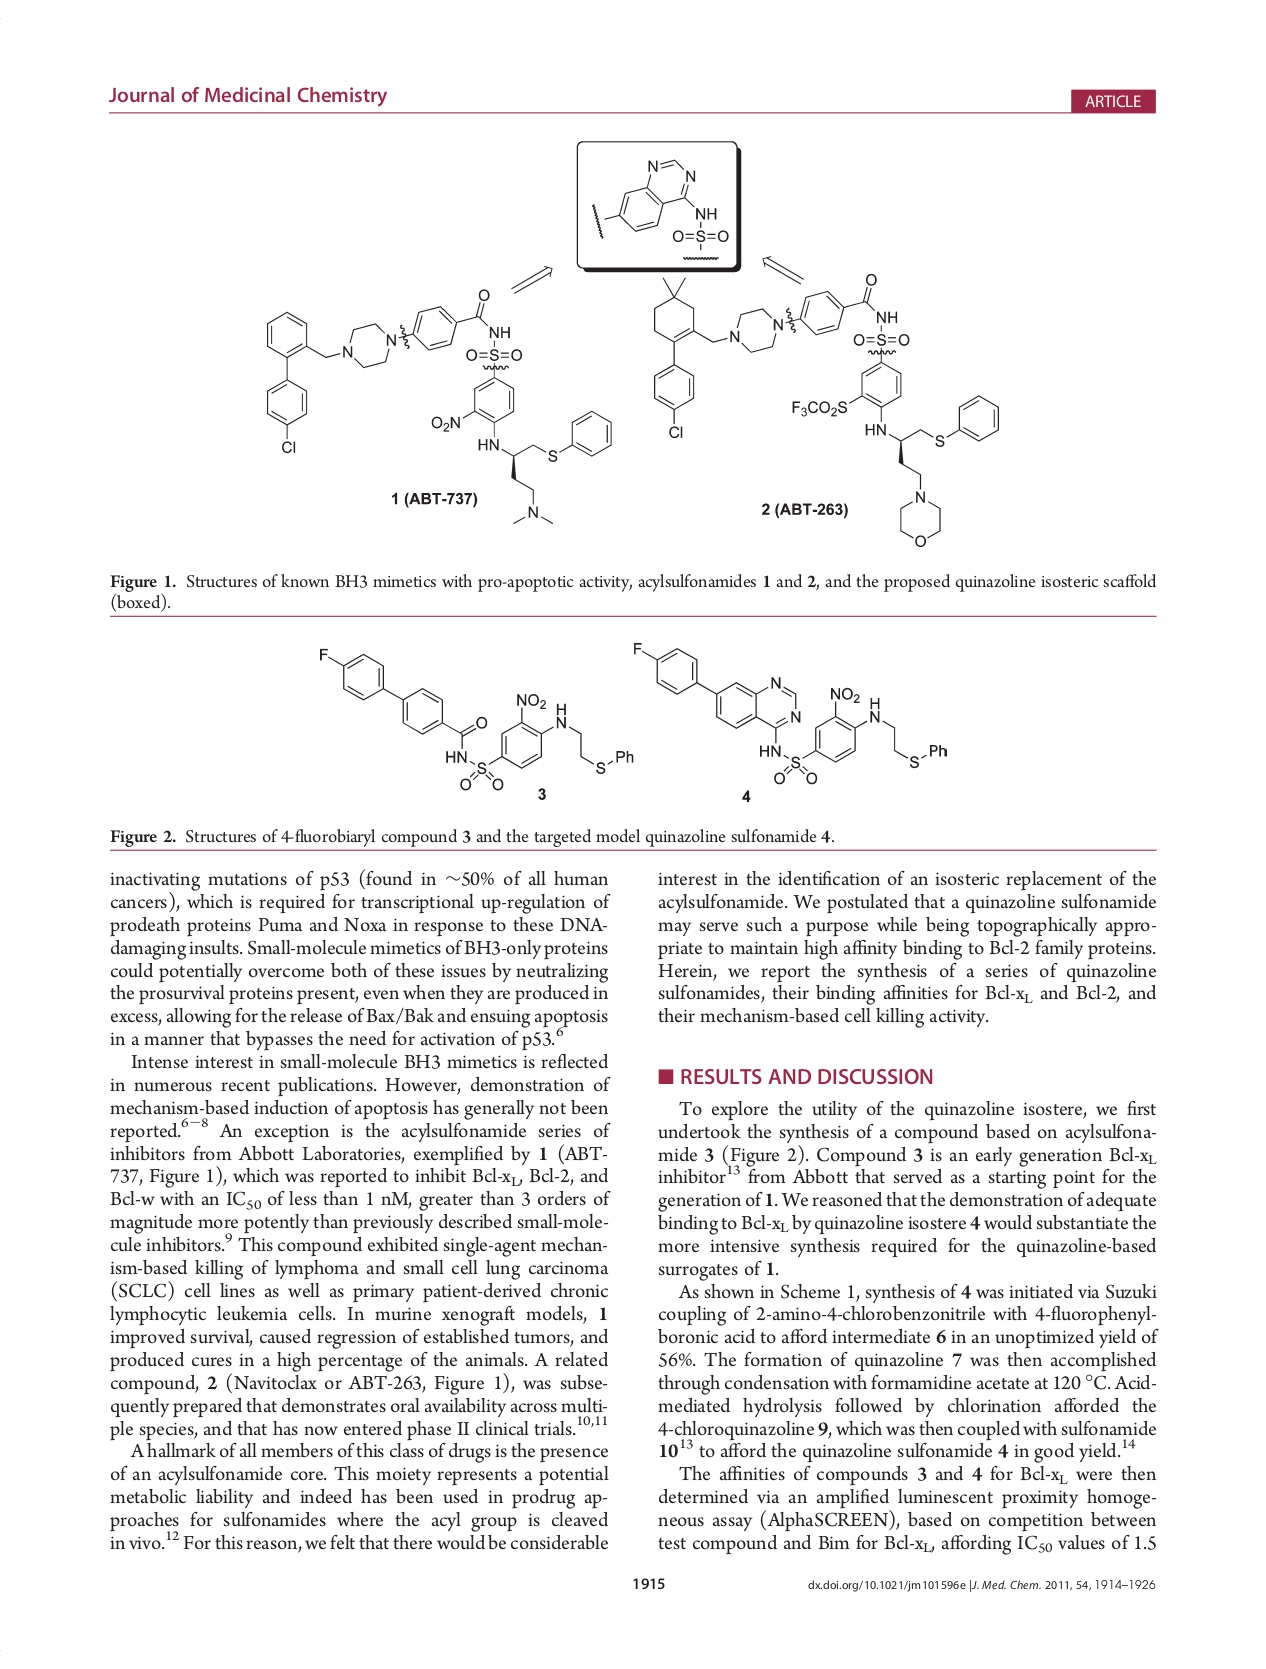exist_molecular: (652, 273, 1001, 551), (261, 289, 616, 527), (629, 637, 953, 787), (316, 644, 636, 795), (588, 154, 731, 263)
